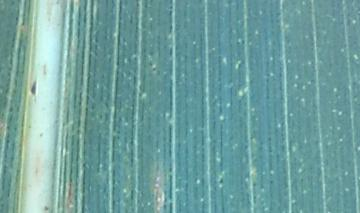tarspot: (28, 77, 40, 101)
